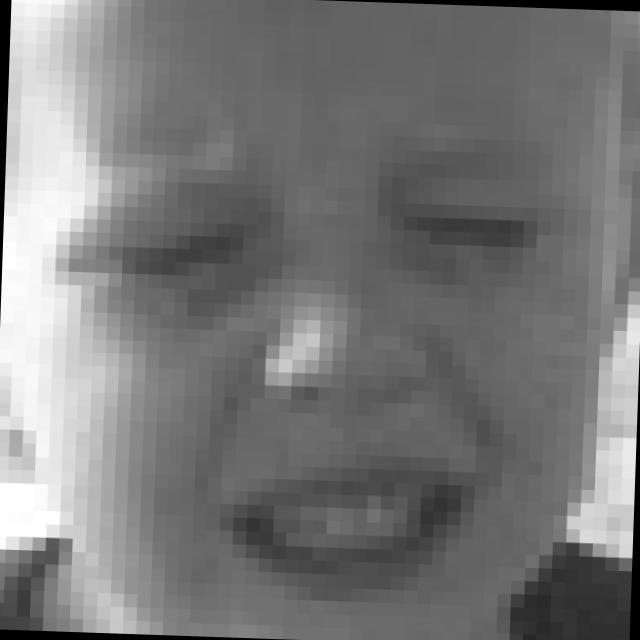sad: (46, 139, 566, 604)
